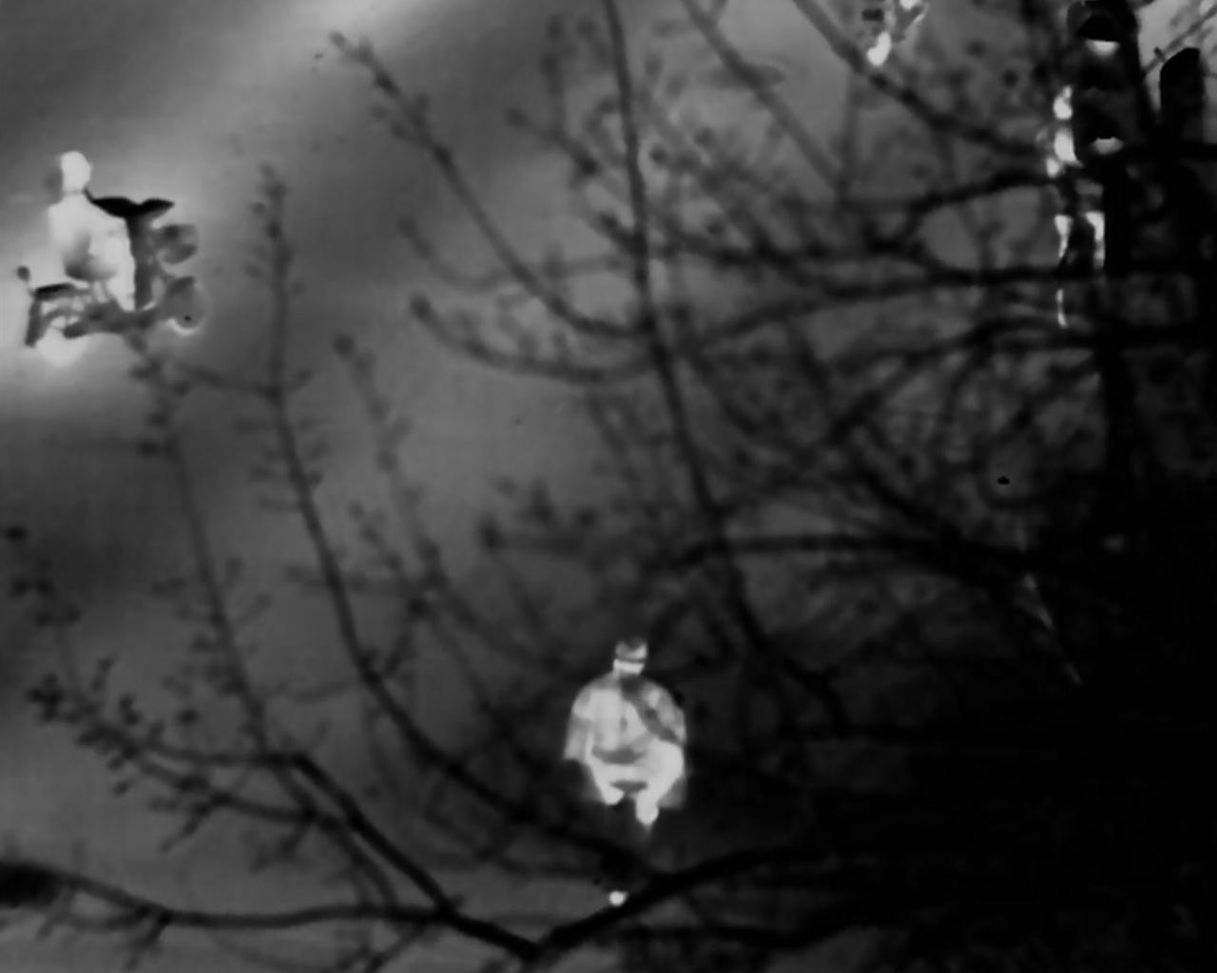person: (570, 635, 689, 844), (39, 162, 151, 324), (1043, 69, 1110, 289)
